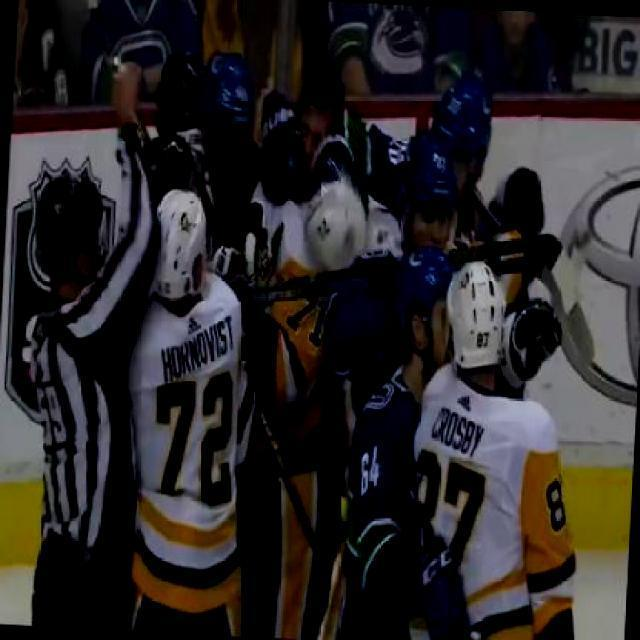fight: (22, 59, 370, 392)
